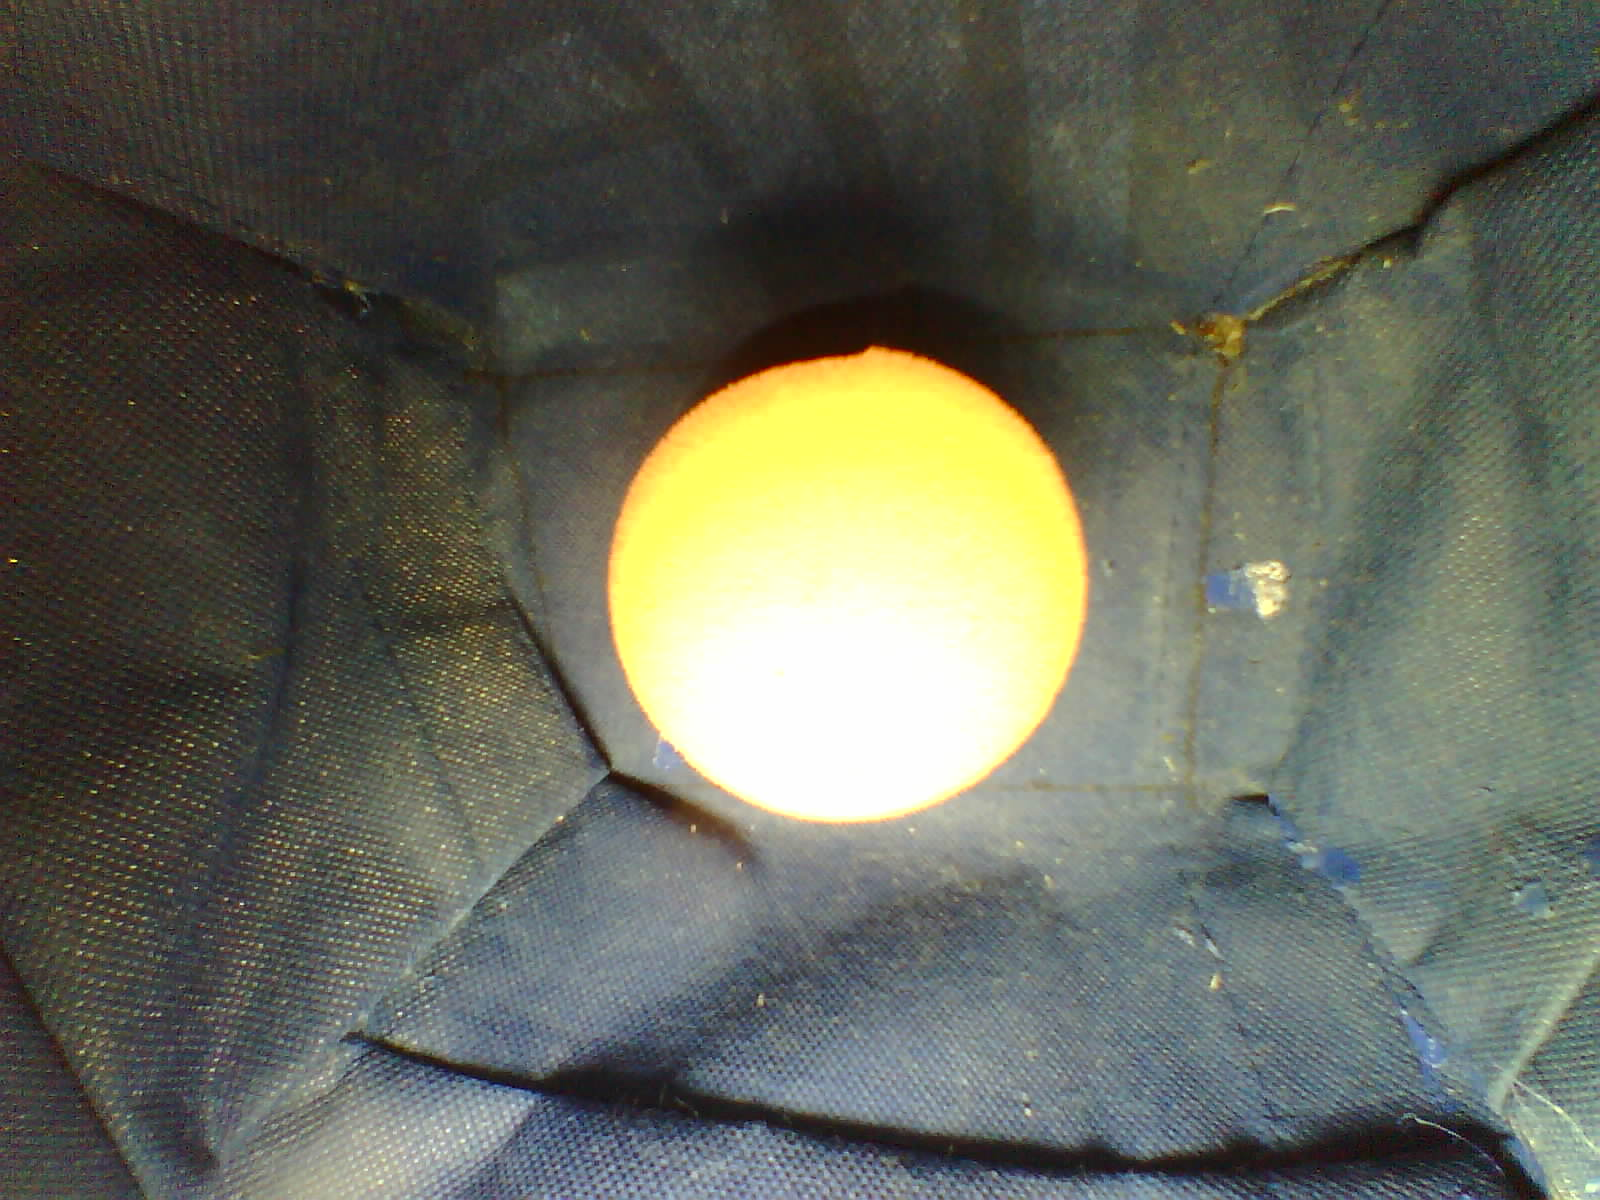cylinder-soft: (577, 329, 1100, 837)
